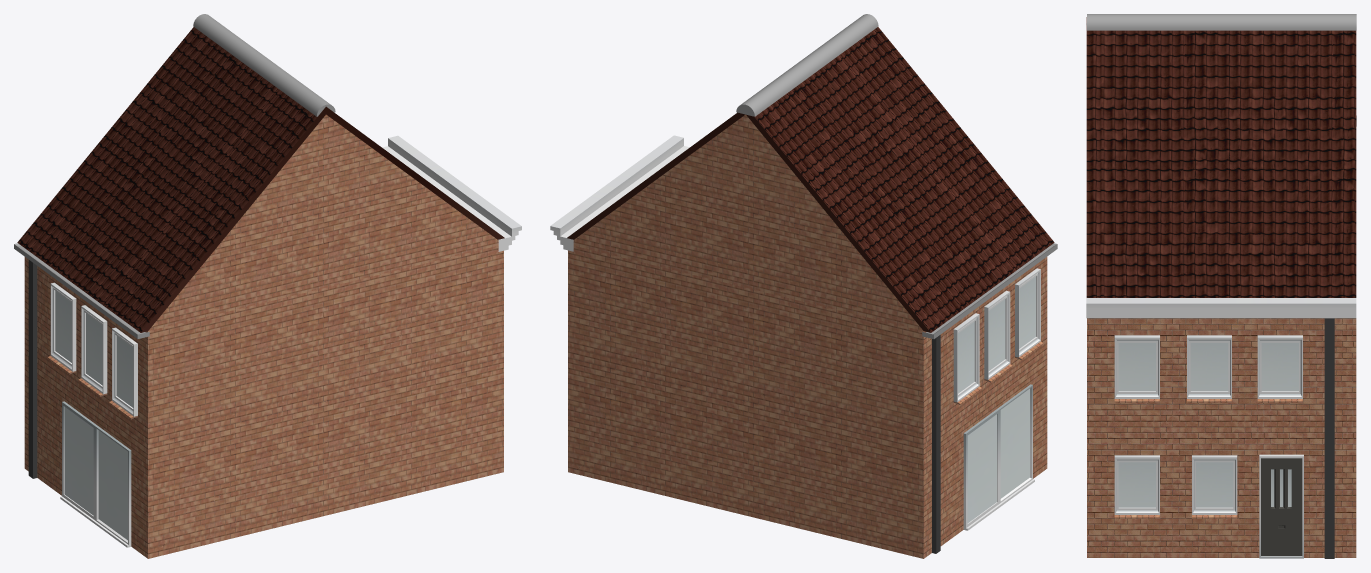
The model's file is It_Heafek_6.fbx.
3 views of the same model, side by side, from view 1: azimuth 30°, elevation 25°; view 2: azimuth 150°, elevation 25°; view 3: azimuth 270°, elevation 25° (orthographic). The views are drawn at different scales.
Visible parts, largest first — view 1: It_Heafek_6; view 2: It_Heafek_6; view 3: It_Heafek_6.
Part boxes in pixels (x1,y1,x2,y2): It_Heafek_6: [14, 14, 521, 558]; It_Heafek_6: [550, 14, 1057, 558]; It_Heafek_6: [1086, 14, 1356, 558].
Size of the model in its own units: 1023 by 1046 by 572.
